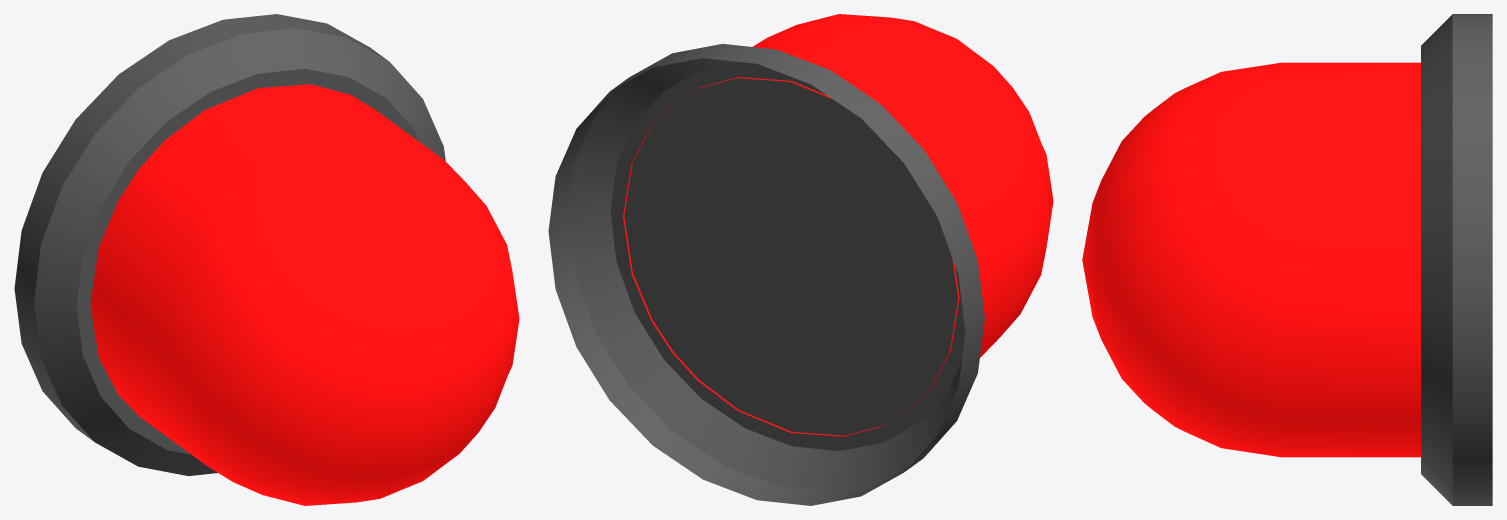
The model's file is LightBulbGreen.fbx.
The picture shows the model from 3 angles, left to right: view 1: azimuth 30°, elevation 25°; view 2: azimuth 150°, elevation 25°; view 3: azimuth 270°, elevation 25°; orthographic projection. The views are drawn at different scales.
Visible parts, largest first — view 1: LightBulbGreen; view 2: LightBulbGreen; view 3: LightBulbGreen.
Boxes of the visible parts, x1,y1,x2,y2 form: LightBulbGreen: (14,14,519,505); LightBulbGreen: (548,14,1053,505); LightBulbGreen: (1082,14,1492,505).
Size of the model in its own units: 18.6 by 18.6 by 15.46.
